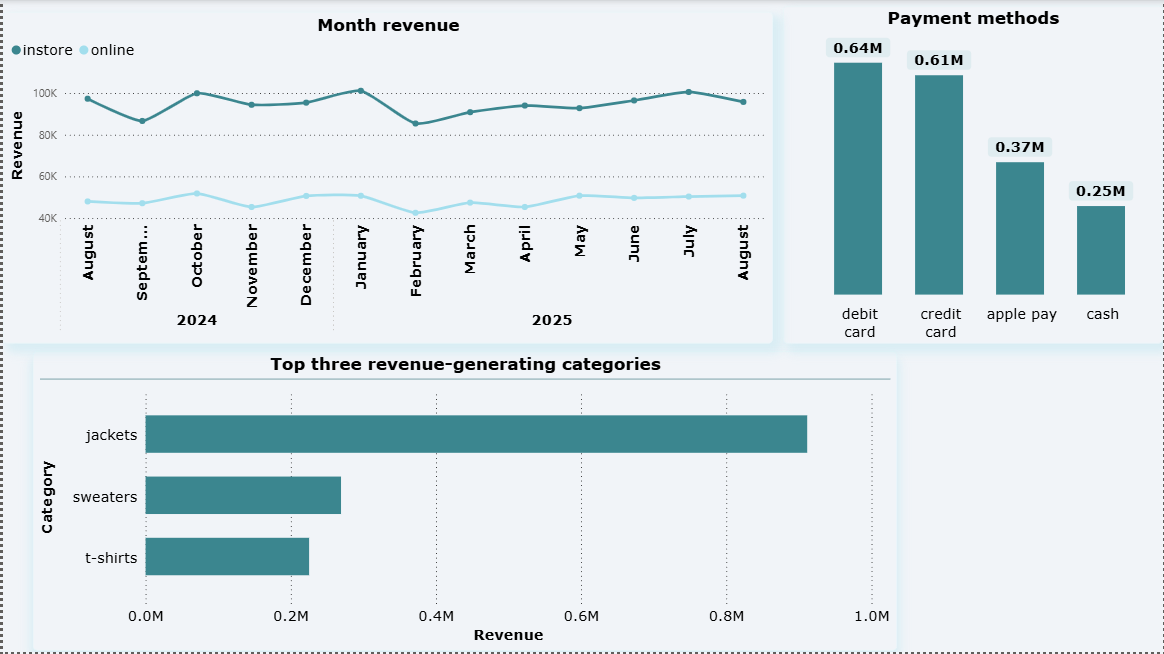

The page's visual inventory and layout, read from the dashboard file:
{"tool":"powerbi","page":{"name":"Revenue & Payments","canvas":[1280,720],"ordinal":1},"visuals":[{"type":"barChart","title":"Top three revenue-generating categories","fields":{"Category":["Zara_inventory.item _category"],"Y":["Sum(Zara_sales_data.total_price)"]},"box":[33.9,388.4,954,330.6],"z":0},{"type":"clusteredColumnChart","title":"Payment methods","fields":{"Category":["Zara_sales_data.payment_method"],"Y":["Sum(Zara_sales_data.total_price)"]},"box":[861.4,6.6,419.1,372.7],"z":1000},{"type":"lineChart","title":"Month revenue","fields":{"Category":["Zara_sales_data.sale_date.Variation.Date Hierarchy.Year","Zara_sales_data.sale_date.Variation.Date Hierarchy.Month"],"Series":["Zara_sales_data.channel"],"Y":["Sum(Zara_sales_data.total_price)"]},"box":[0,13.3,849.8,366.1],"z":2000}]}

Visuals, with their boxes in screenshot pixels (x1, y1, x2, y2), scaled from the page's 1280x720 canvas onto the 1164x654 screenshot:
"Top three revenue-generating categories" barChart: 31 353 898 653
"Payment methods" clusteredColumnChart: 783 6 1163 345
"Month revenue" lineChart: 0 12 773 345
